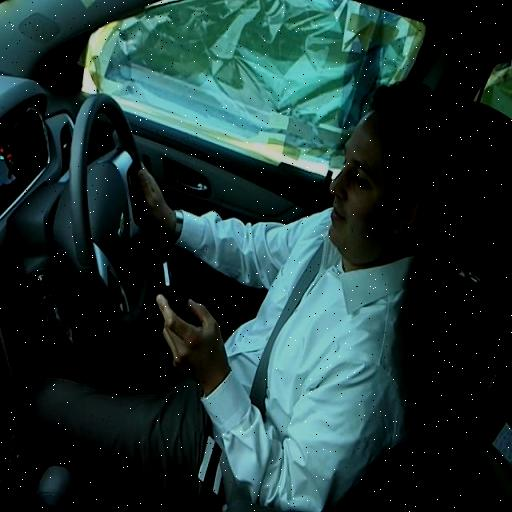texting_phone: (71, 83, 455, 497)
